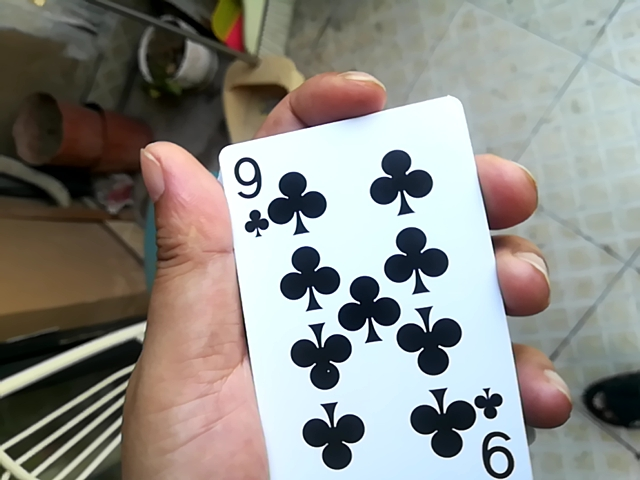mh 9: (198, 90, 514, 477)
